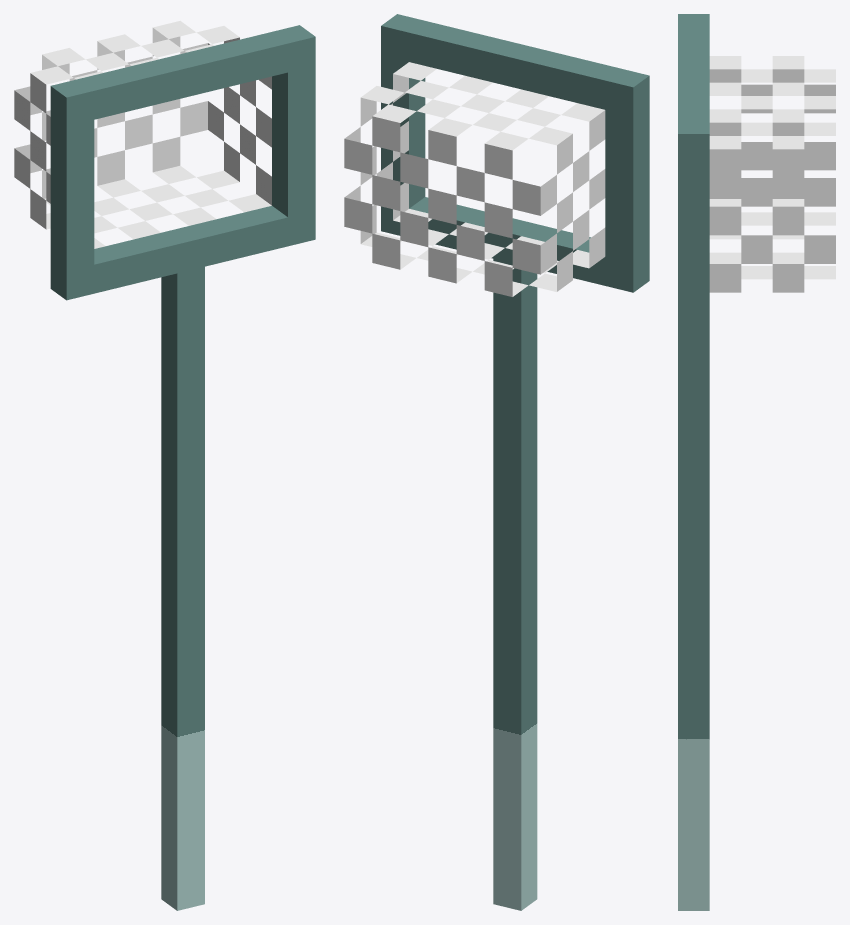
The model's file is PoolNet.fbx.
The picture shows the model from 3 angles, left to right: view 1: azimuth 30°, elevation 25°; view 2: azimuth 150°, elevation 25°; view 3: azimuth 270°, elevation 25°; orthographic projection. The views are drawn at different scales.
Visible parts, largest first — view 1: cuboid; view 2: cuboid; view 3: cuboid.
Boxes of the visible parts, left/top/right/bottom form: cuboid: left=14, top=20, right=315, bottom=910; cuboid: left=344, top=14, right=649, bottom=910; cuboid: left=678, top=14, right=835, bottom=910.
Size of the model in its own units: 56.25 by 181 by 31.25.
2 materials, 2 textured.
